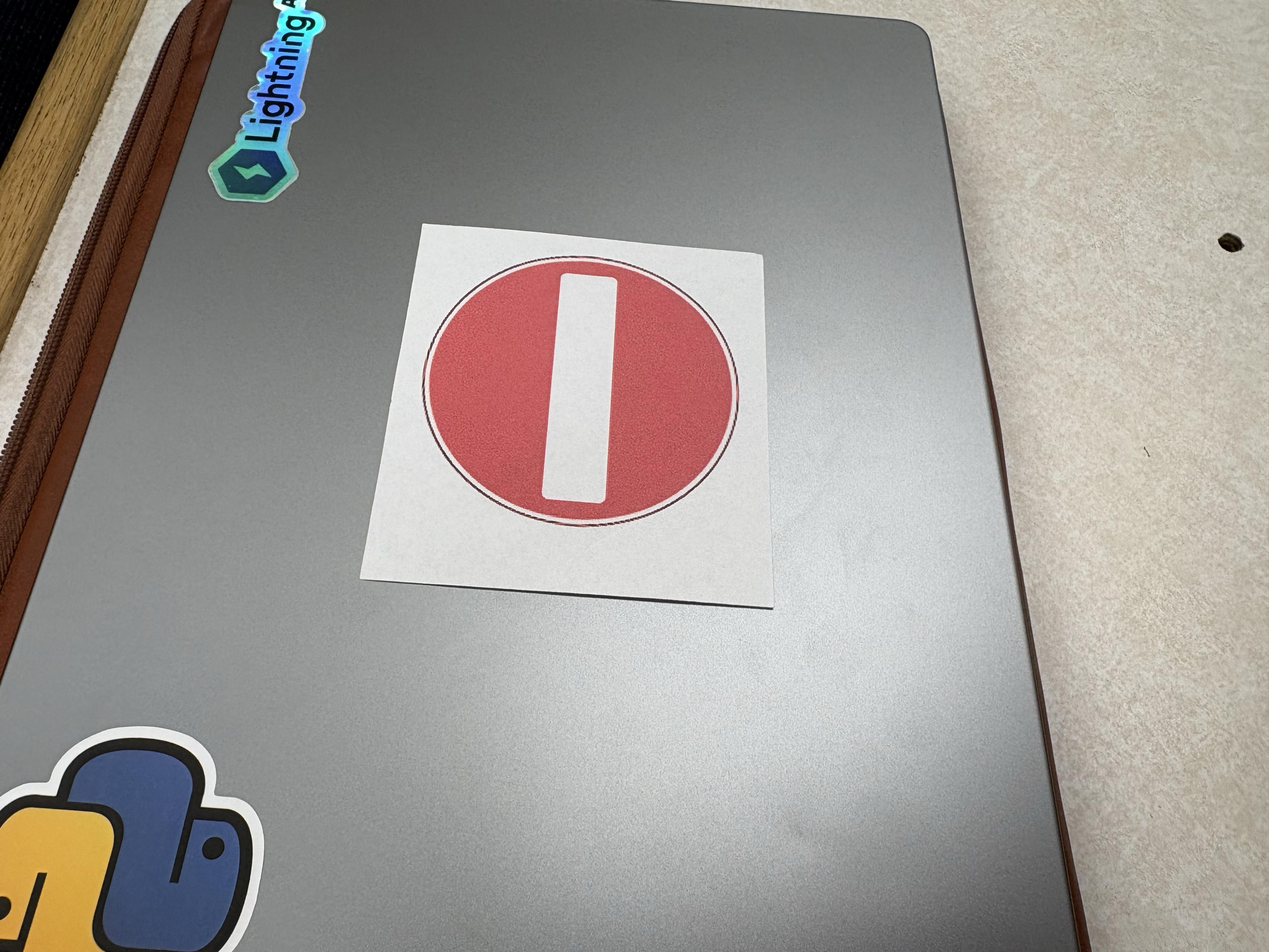No Entry: (359, 220, 776, 610)
